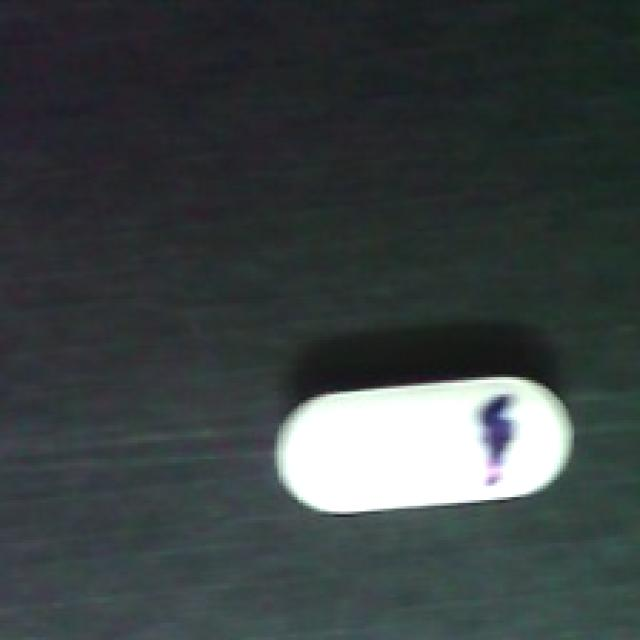defected: (269, 369, 577, 520)
